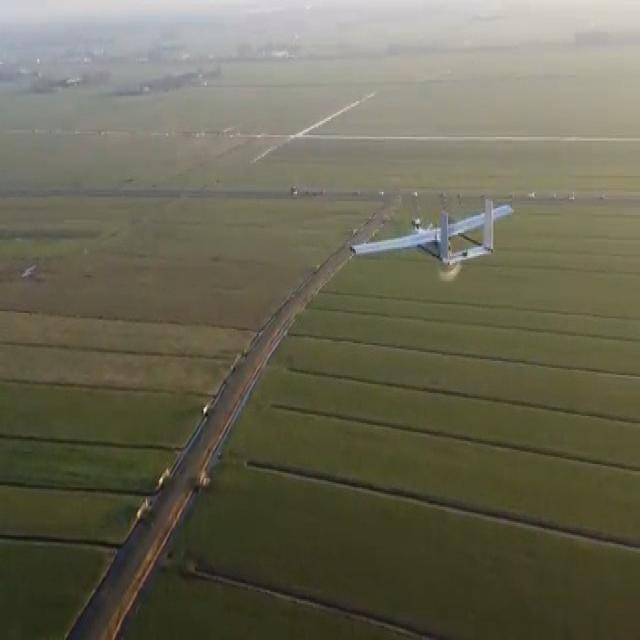drones: (345, 182, 517, 294)
